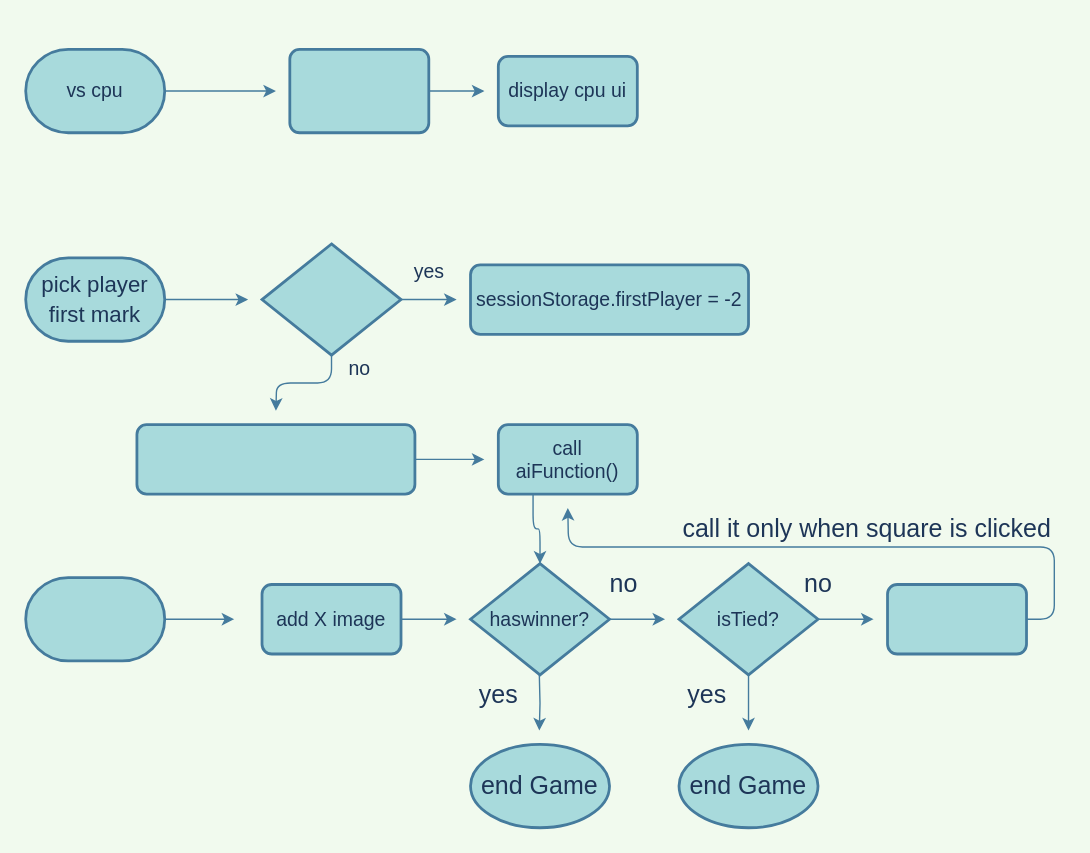
Image size: 1090x853. Some labels were removed from this diagram. The shapes that lost their labels are listed below. From the top down, each one's centre as x and y in pixels, then its label:
point (359, 90): set cpu to true
point (331, 299): mark = x
point (275, 459): sessionStorage.firstPlayer = 2
point (94, 618): square
point (956, 618): switch turn
